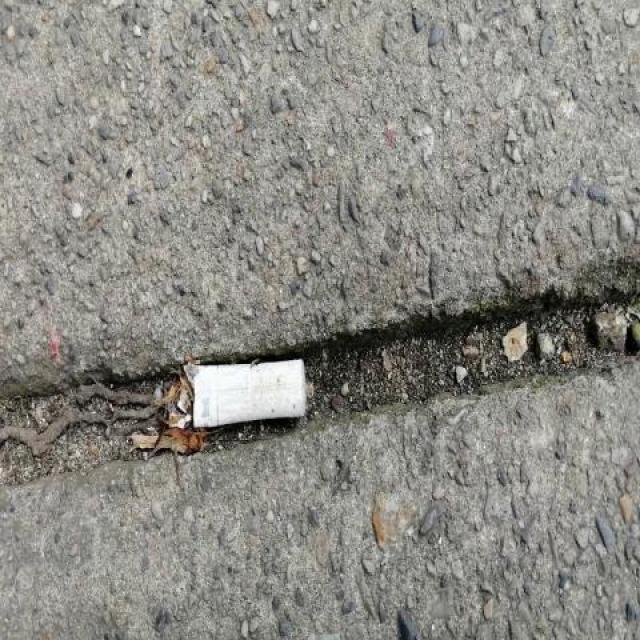non-organic waste: (182, 355, 314, 433)
